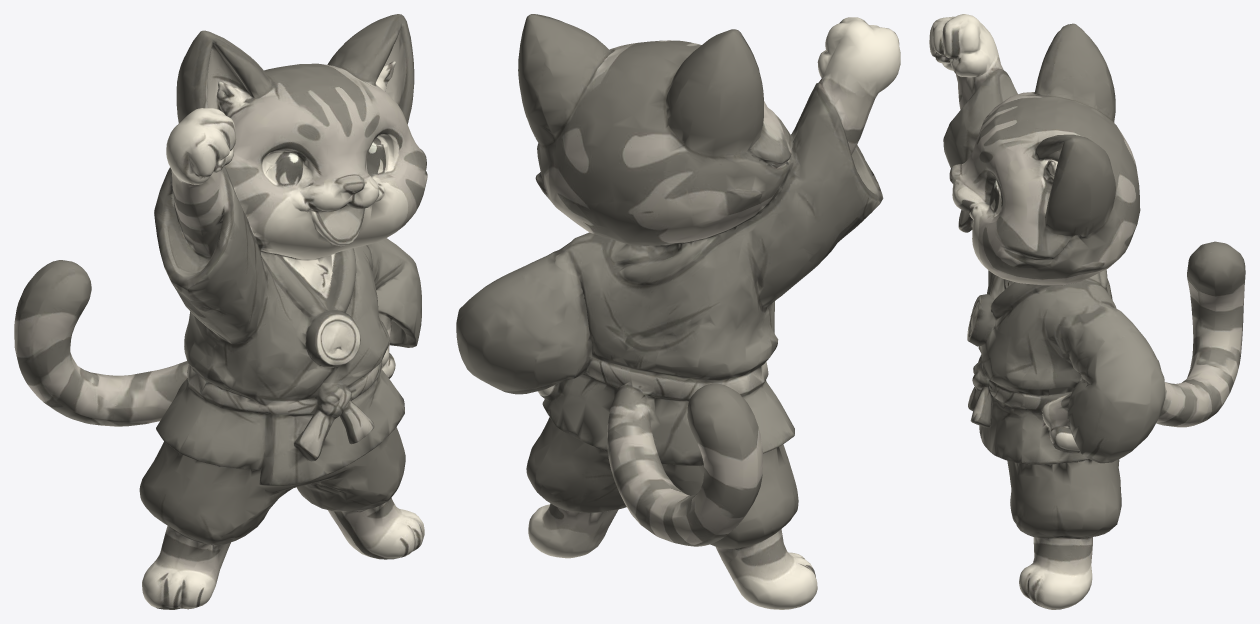
Rendered from ember.glb.
The picture shows the model from 3 angles, left to right: view 1: azimuth 30°, elevation 25°; view 2: azimuth 150°, elevation 25°; view 3: azimuth 270°, elevation 25°; orthographic projection. The views are drawn at different scales.
Visible parts, largest first — view 1: statue; view 2: statue; view 3: statue.
Boxes of the visible parts, x1,y1,x2,y2 form: statue: (14, 14, 427, 609); statue: (456, 14, 900, 609); statue: (929, 14, 1245, 609).
Size of the model in its own units: 0.6438 by 0.9999 by 0.5706.
1 material, 1 textured.
